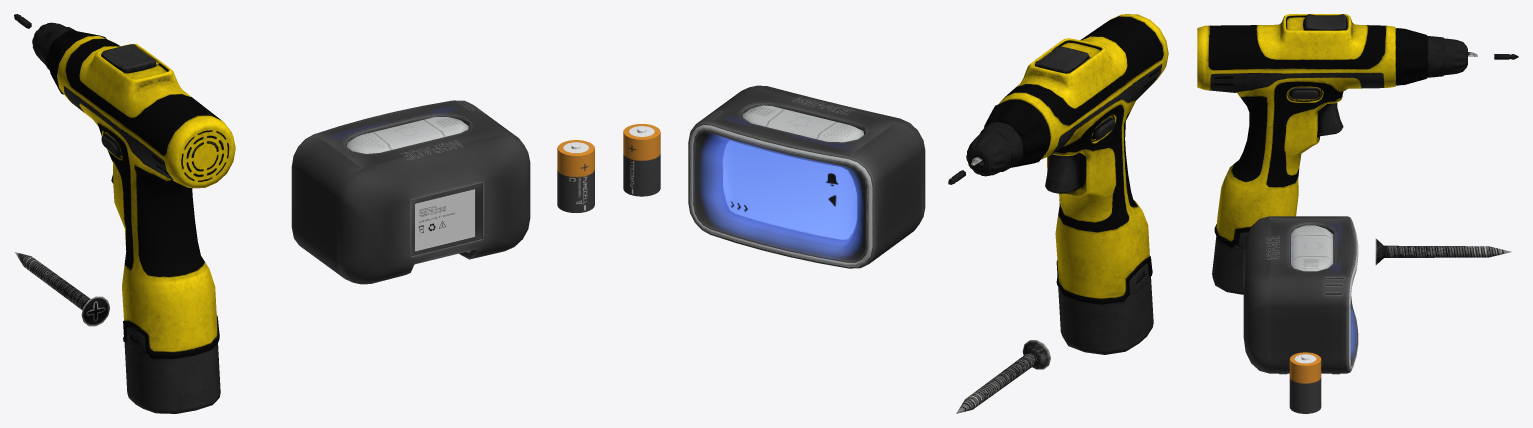
Rendered from Items.fbx.
The picture shows the model from 3 angles, left to right: view 1: azimuth 30°, elevation 25°; view 2: azimuth 150°, elevation 25°; view 3: azimuth 270°, elevation 25°; orthographic projection. The views are drawn at different scales.
Visible parts, largest first — view 1: Alarm_lo, ScrewDriver_lo, Batt_lo, Cell_lo, Screw_lo, Head_lo; view 2: Alarm_lo, ScrewDriver_lo, Batt_lo, Cell_lo, Head_lo, Screw_lo; view 3: ScrewDriver_lo, Alarm_lo, Cell_lo, Screw_lo, Batt_lo, Head_lo.
Boxes of the visible parts, x1,y1,x2,y2 form: Alarm_lo: [291, 100, 530, 284]; ScrewDriver_lo: [45, 30, 235, 358]; Batt_lo: [124, 325, 220, 413]; Cell_lo: [557, 140, 594, 212]; Screw_lo: [15, 252, 109, 326]; Head_lo: [32, 22, 75, 69]; Alarm_lo: [688, 85, 925, 268]; ScrewDriver_lo: [984, 14, 1168, 304]; Batt_lo: [1058, 263, 1153, 354]; Cell_lo: [623, 124, 660, 196]; Head_lo: [966, 121, 1023, 176]; Screw_lo: [956, 340, 1050, 413]; ScrewDriver_lo: [1197, 14, 1427, 247]; Alarm_lo: [1243, 216, 1358, 374]; Cell_lo: [1289, 352, 1321, 413]; Screw_lo: [1375, 238, 1511, 265]; Batt_lo: [1212, 230, 1248, 294]; Head_lo: [1427, 36, 1467, 77].
Bounding box in the file's own units: 0.5179 × 0.3161 × 0.3492.
